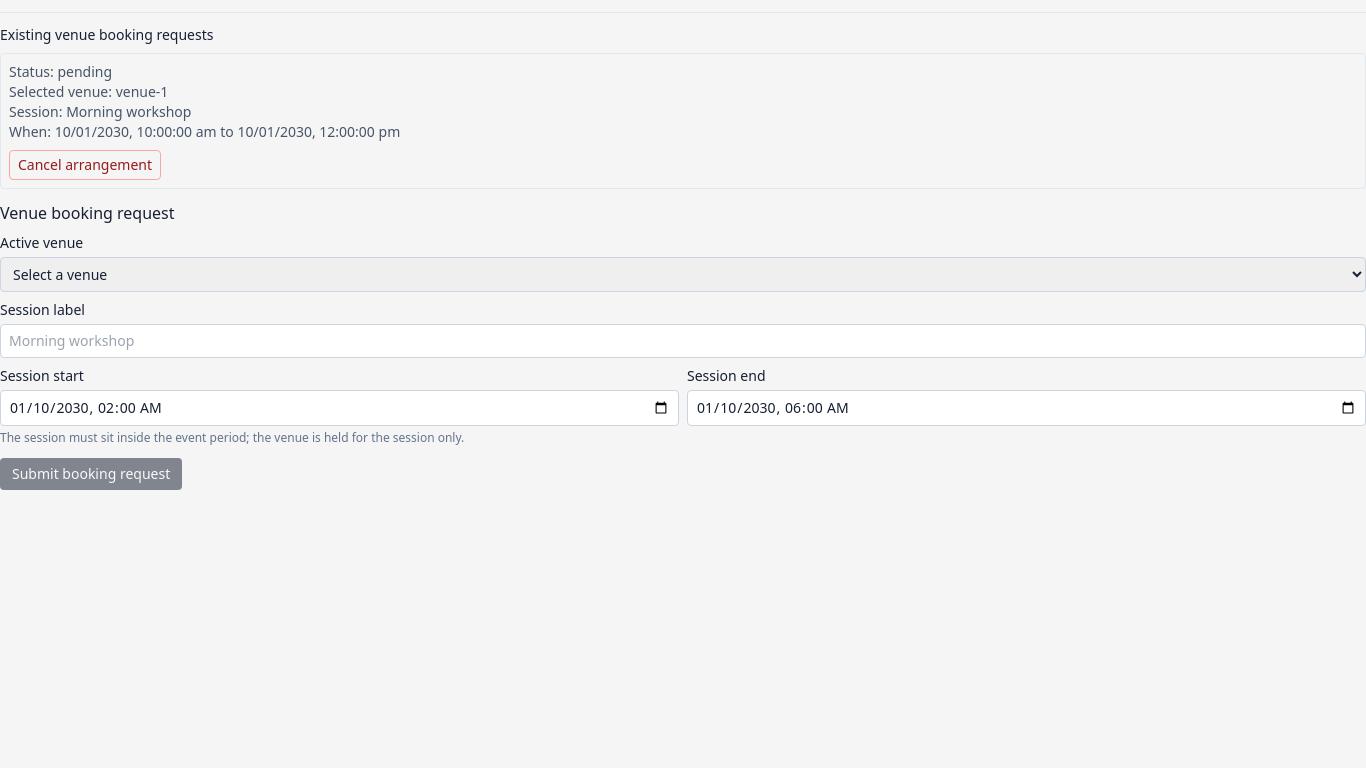
Test: SCRUM-109: the API refusing the reason is still shown
The width and height of the screenshot is (1366, 768).
Click the button with aria-label "Cancel arrangement for Morning workshop" at (85, 165), box x1=9 y1=150 x2=161 y2=180
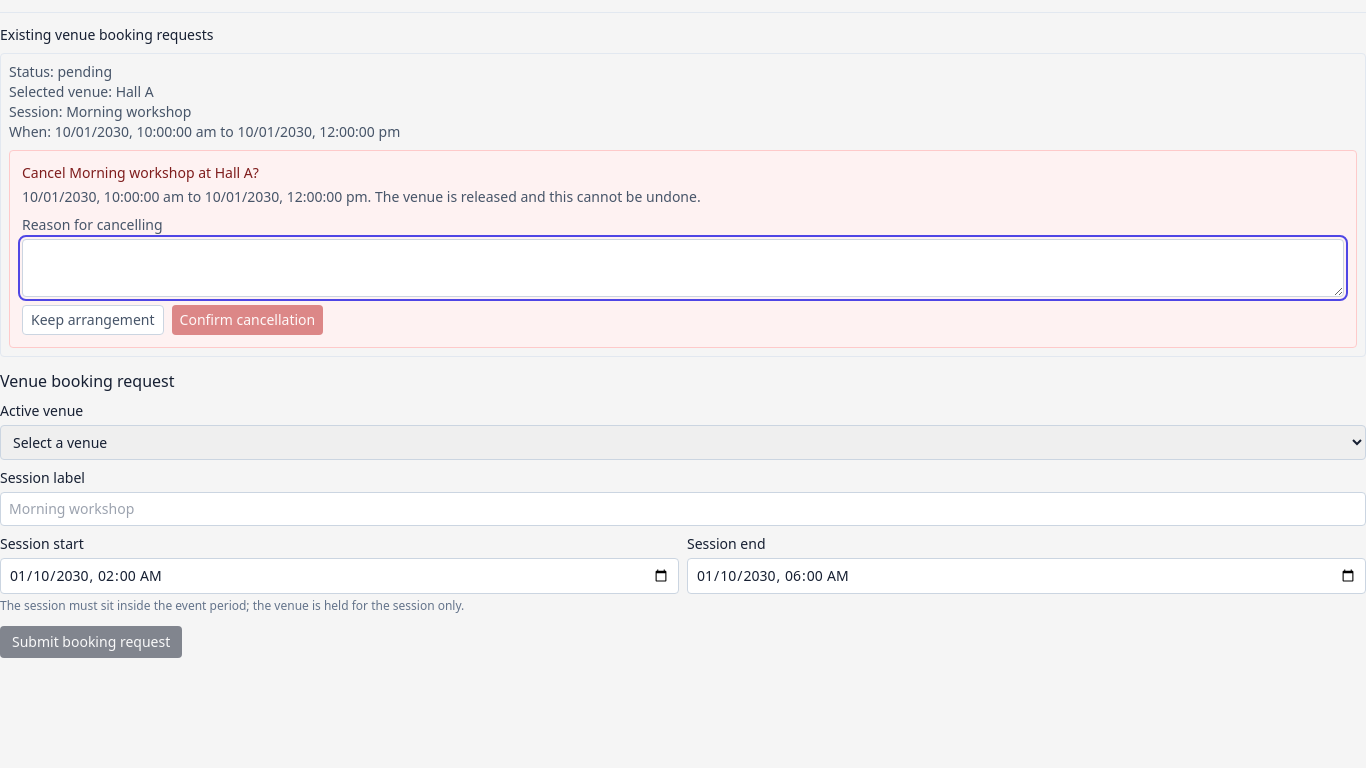
Type "x" into the text box labelled "Reason for cancelling" at (683, 268), box x1=22 y1=239 x2=1344 y2=297
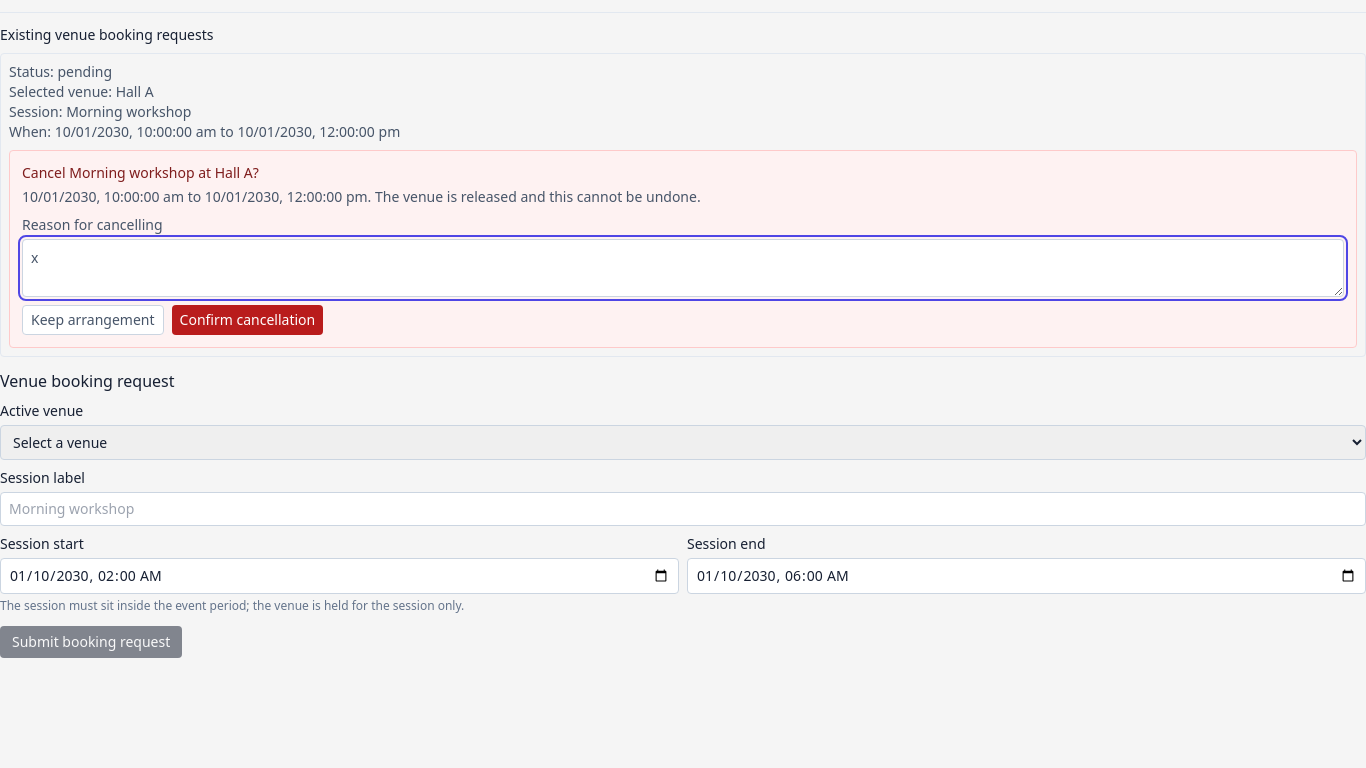
Click the button "Confirm cancellation" at (247, 320), box x1=172 y1=305 x2=323 y2=335
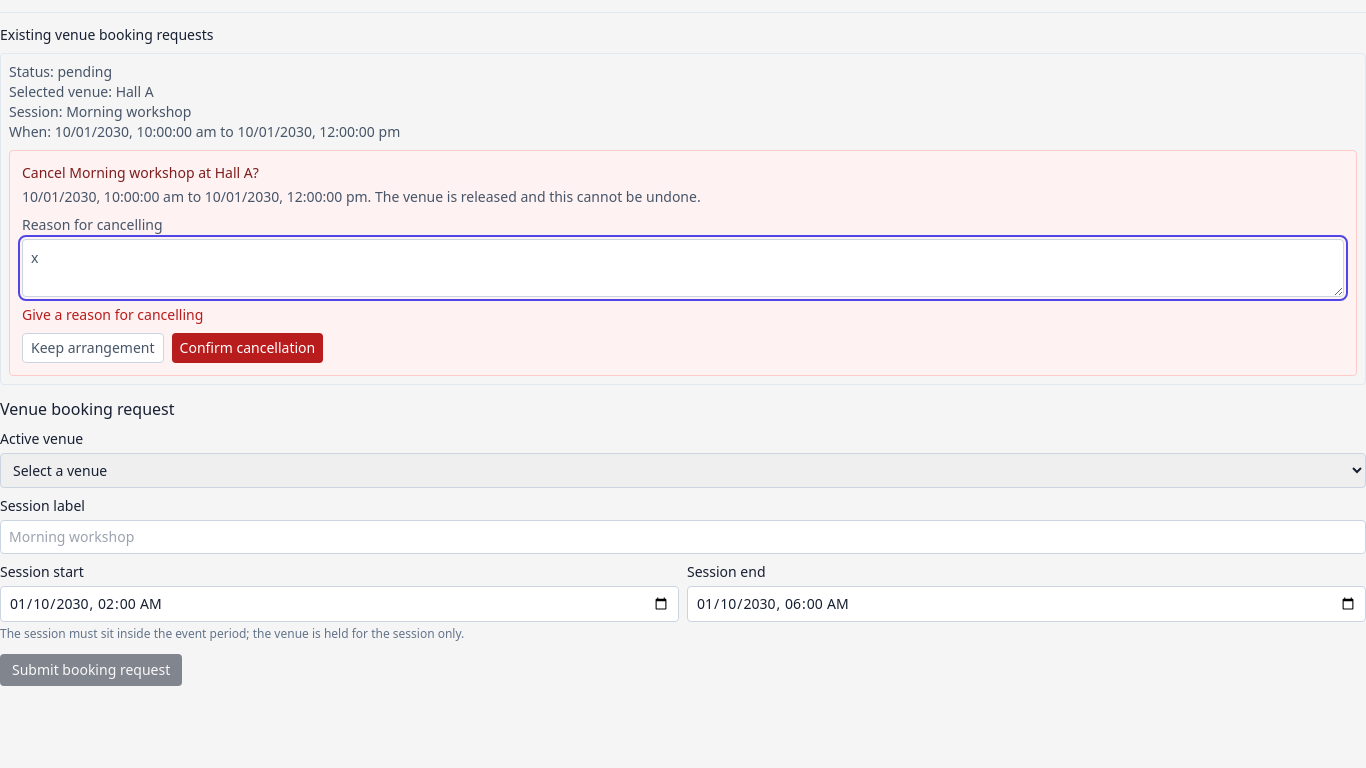
Expected: the message reads "Give a reason for cancelling", x1=22 y1=305 x2=203 y2=324
